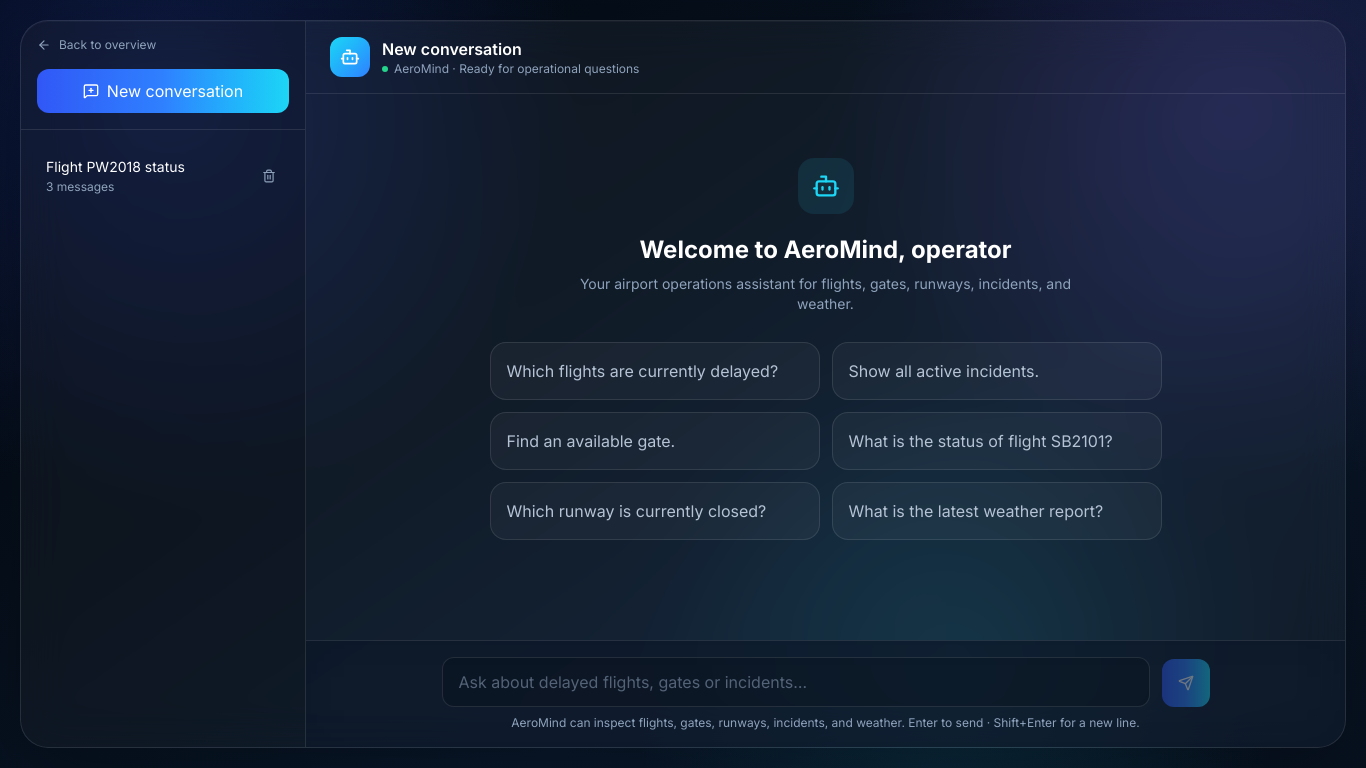
Test case: ChatPage conversation rendering › renders user and assistant messages in stored order
Click the button "Flight PW2018 status 3 messages". click: (148, 176)
box: [46, 157, 250, 195]
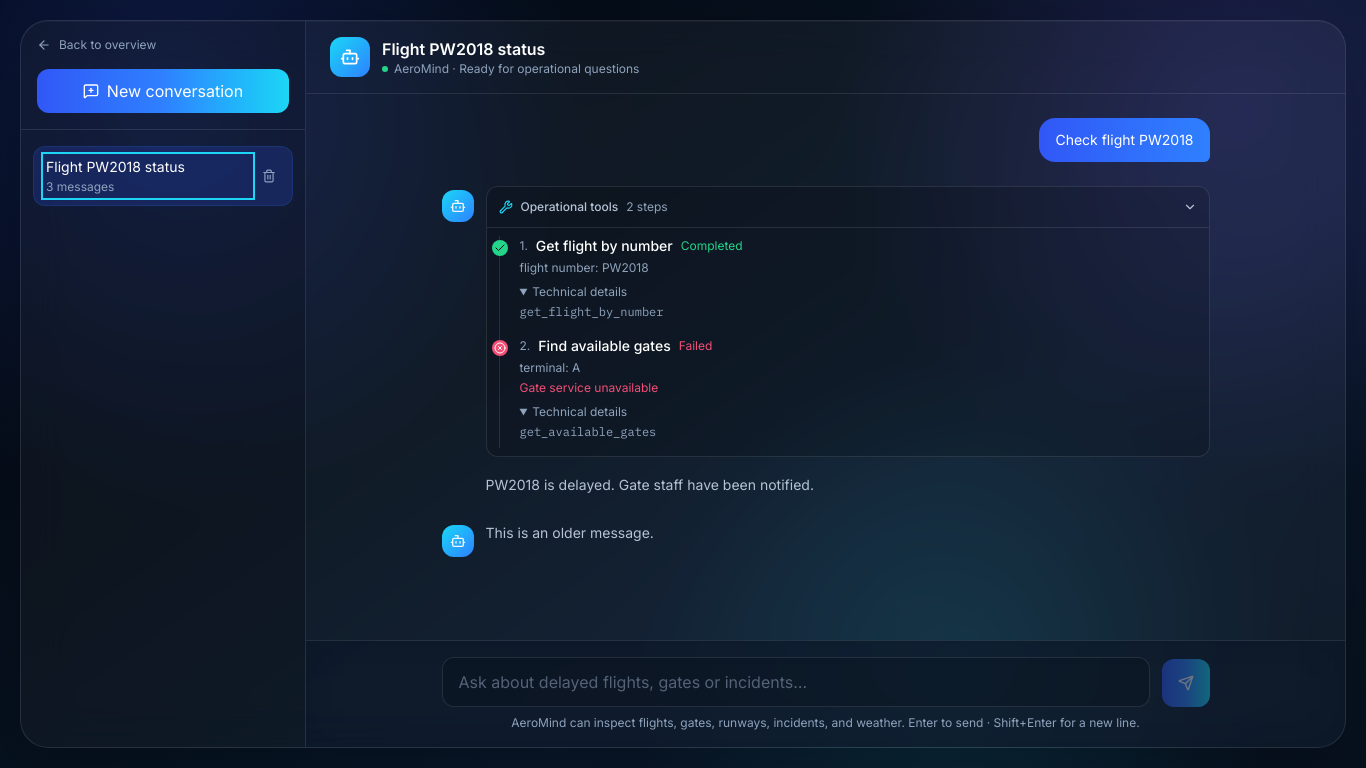
Result: the text "Check flight PW2018" is shown 3 times at [1039, 118, 1210, 162]; [486, 476, 814, 493]; [486, 524, 654, 541]
Result: the text "Check flight PW2018" is shown at [1039, 118, 1210, 162]
Result: the text "PW2018 is delayed. Gate staff have been notified." is shown at [486, 476, 814, 493]
